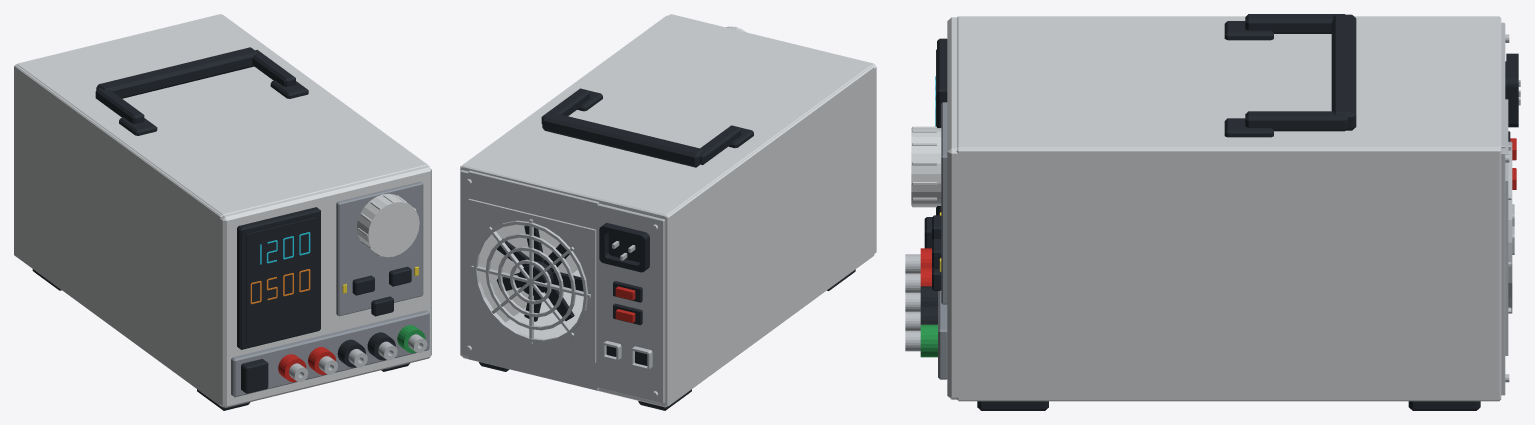
The model's file is full.glb.
3 views of the same model, side by side, from view 1: azimuth 30°, elevation 25°; view 2: azimuth 150°, elevation 25°; view 3: azimuth 270°, elevation 25° (orthographic). The views are drawn at different scales.
Visible parts, largest first — view 1: Case side -0.0753, Case roof, Front fascia, Recessed screen, Control recess, Lower terminal strip, Folded handle grip, Main adjustment knob, Screen dark bezel, Power rocker, Folded handle arm -0.056, Folded handle arm 0.056 (+7 smaller); view 2: Case side -0.0753, Case roof, Rear right panel, Fan outer support, Rear horizontal 0.133, Rear horizontal 0.02, Folded handle grip, Case side 0.0753, Rear left edge, Fan grille ring 0.041, Case floor, IEC inlet rim (+11 smaller); view 3: Case side 0.0753, Case roof, Front fascia, Folded handle grip, Main adjustment knob, Folded handle arm 0.056, Folded handle arm -0.056, Control recess, Rear left edge, Case floor, Fan outer support, IEC inlet rim (+8 smaller).
Boxes of the visible parts, x1,y1,x2,y2 form: Case side -0.0753: (14,64,222,406); Case roof: (16,14,426,215); Front fascia: (218,165,431,407); Recessed screen: (246,217,316,343); Control recess: (336,181,423,316); Lower terminal strip: (231,310,429,397); Folded handle grip: (96,47,257,98); Main adjustment knob: (357,193,419,257); Screen dark bezel: (237,207,320,349); Power rocker: (241,359,268,393); Folded handle arm -0.056: (95,88,144,123); Folded handle arm 0.056: (252,49,295,86); Case side -0.0753: (664,65,874,406); Case roof: (462,15,871,219); Rear right panel: (594,203,665,403); Fan outer support: (468,199,596,363); Rear horizontal 0.133: (468,170,598,229); Rear horizontal 0.02: (468,333,598,390); Folded handle grip: (542,112,703,167); Case side 0.0753: (460,15,667,356); Rear left edge: (460,170,472,357); Fan grille ring 0.041: (473,220,587,343); Case floor: (462,270,666,407); IEC inlet rim: (599,223,649,272); Case side 0.0753: (956,148,1501,400); Case roof: (957,16,1501,149); Front fascia: (947,17,963,399); Folded handle grip: (1331,14,1356,130); Main adjustment knob: (911,128,941,205); Folded handle arm 0.056: (1245,111,1347,131); Folded handle arm -0.056: (1245,14,1344,33); Control recess: (941,102,947,304); Rear left edge: (1501,148,1505,395); Case floor: (958,400,1499,401); Fan outer support: (1505,99,1508,355); IEC inlet rim: (1506,53,1518,127).
Bounding box in the file's own units: 0.1546 × 0.155 × 0.2995.
